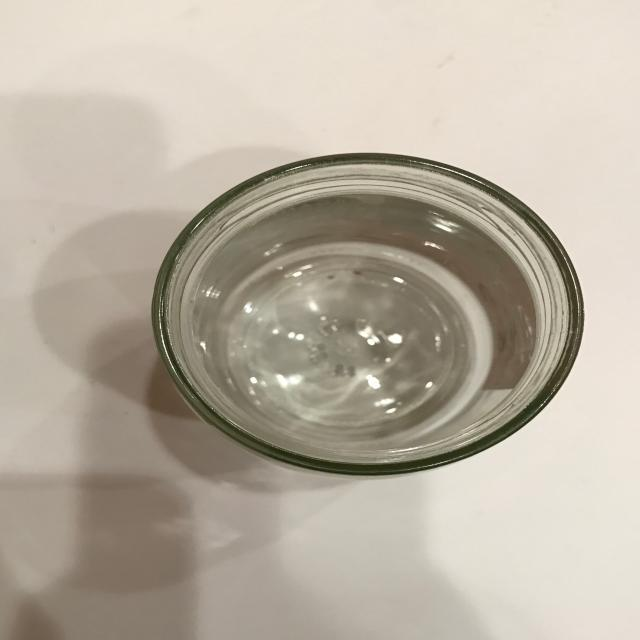glass: (152, 150, 590, 480)
